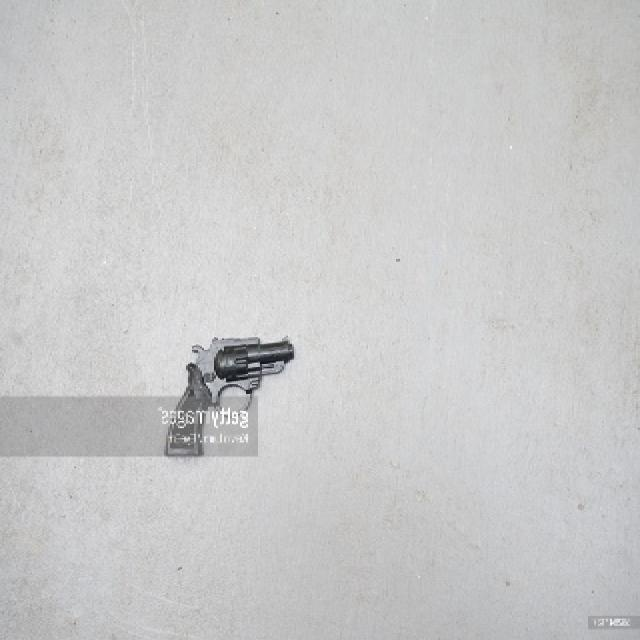gun: (154, 331, 306, 458)
